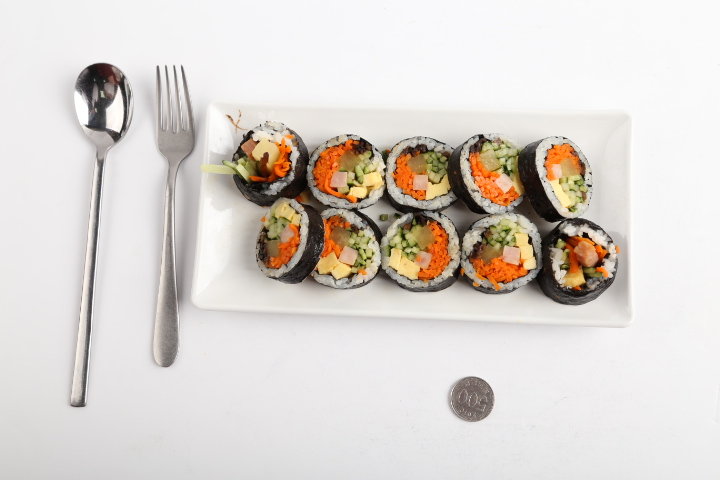dish: (190, 102, 632, 327)
ref_coin: (450, 376, 494, 422)
ref_fork: (155, 65, 195, 167)
ref_spoon: (73, 63, 135, 156)
김밥: (232, 121, 619, 306)
